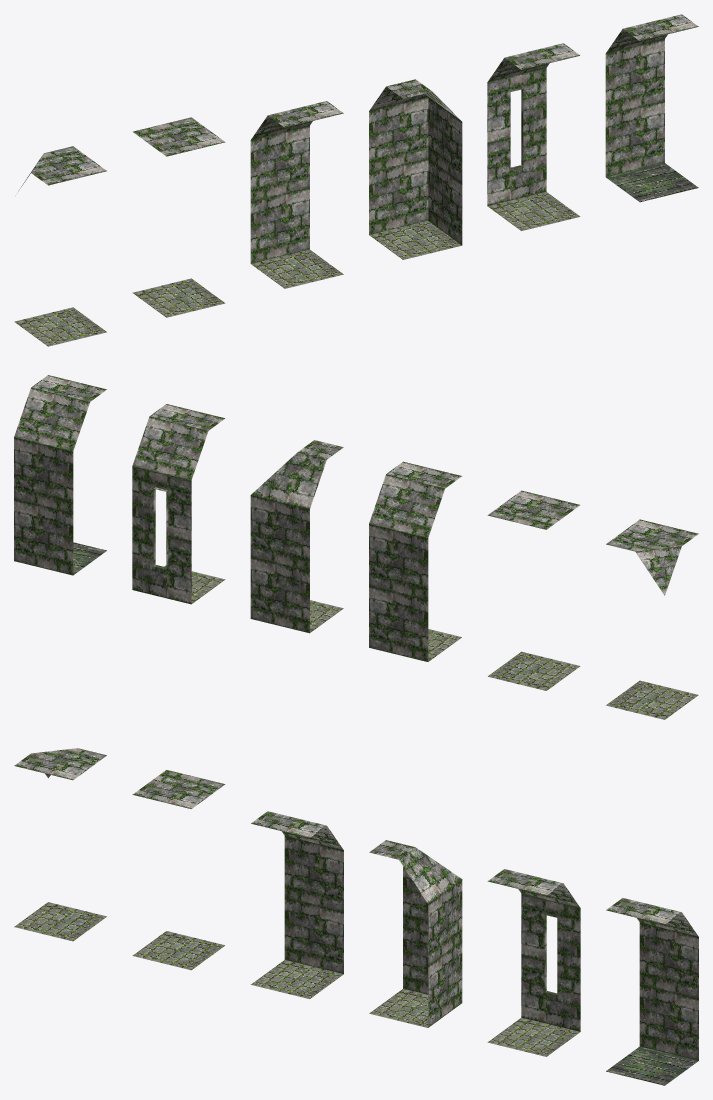
File: mossy_tileset.glb
3 renders of one model, top to bottom at view 1: azimuth 30°, elevation 25°; view 2: azimuth 150°, elevation 25°; view 3: azimuth 330°, elevation 25°, orthographic.
Parts seen in each view (by area): view 1: corner-in-col.001, wall-col.003, wall-woodenfloor-col.001, wall-arrowslit--col.004, floor-col.001, corener-out-col.001; view 2: wall-woodenfloor-col.001, wall-col.003, wall-arrowslit--col.004, corner-in-col.001, corener-out-col.001, floor-col.001; view 3: wall-col.003, wall-woodenfloor-col.001, corner-in-col.001, wall-arrowslit--col.004, floor-col.001, corener-out-col.001.
Boxes of the visible parts, bbox=[...] form: corner-in-col.001: bbox=[369, 79, 462, 259]; wall-col.003: bbox=[250, 101, 343, 288]; wall-woodenfloor-col.001: bbox=[605, 14, 698, 202]; wall-arrowslit--col.004: bbox=[487, 43, 580, 230]; floor-col.001: bbox=[132, 117, 225, 317]; corener-out-col.001: bbox=[14, 146, 106, 346]; wall-woodenfloor-col.001: bbox=[14, 375, 106, 575]; wall-col.003: bbox=[369, 461, 461, 661]; wall-arrowslit--col.004: bbox=[132, 404, 225, 604]; corner-in-col.001: bbox=[250, 440, 343, 633]; corener-out-col.001: bbox=[606, 519, 698, 719]; floor-col.001: bbox=[487, 490, 580, 690]; wall-col.003: bbox=[251, 811, 343, 998]; wall-woodenfloor-col.001: bbox=[606, 898, 698, 1085]; corner-in-col.001: bbox=[369, 840, 462, 1027]; wall-arrowslit--col.004: bbox=[487, 869, 580, 1056]; floor-col.001: bbox=[132, 770, 225, 970]; corener-out-col.001: bbox=[14, 748, 106, 941].
Size of the model in its own units: 11 by 2.6 by 1.06.
1 material, 1 textured.
